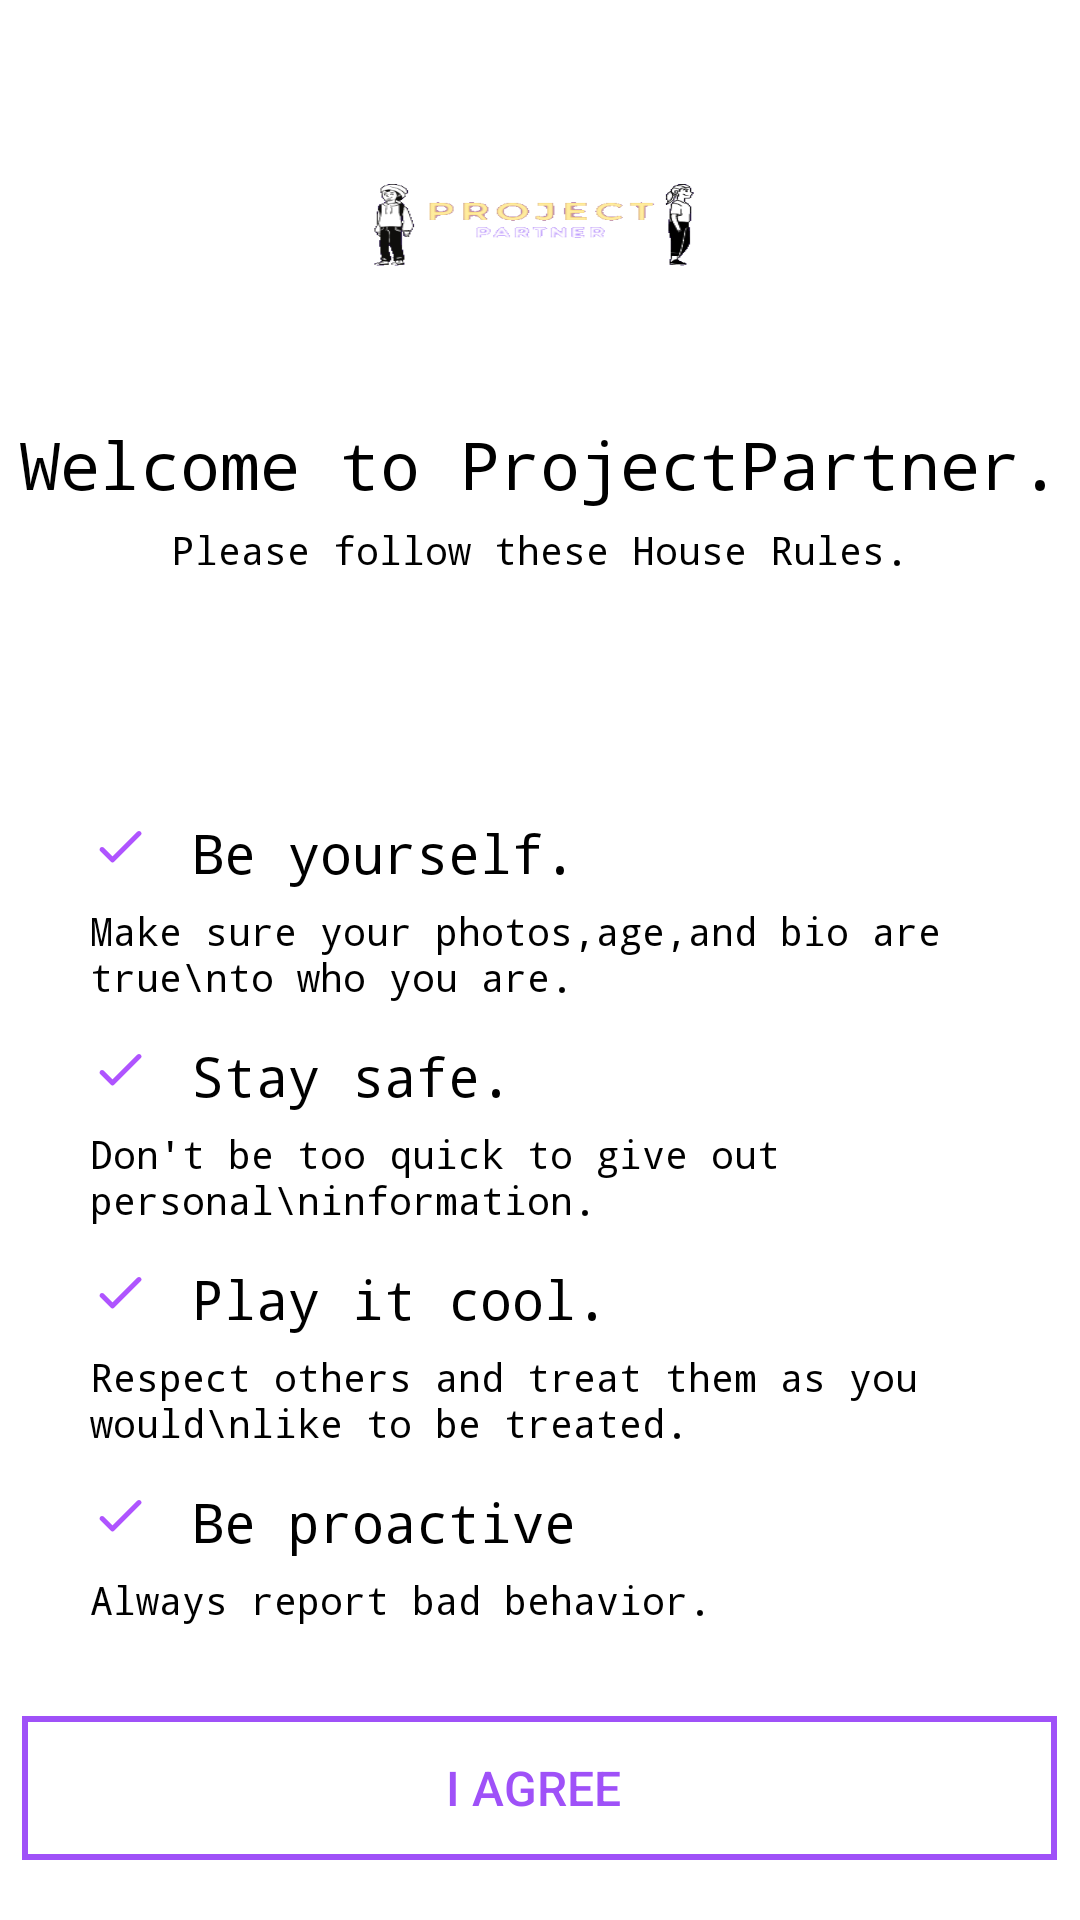

Named icons in this screenshot (1080px×1920px) and their bounding boxes, BBox(x1, y1, x2, y2):
check: BBox(99, 831, 142, 863), BBox(99, 1054, 142, 1086), BBox(99, 1277, 142, 1309), BBox(99, 1500, 142, 1532)
